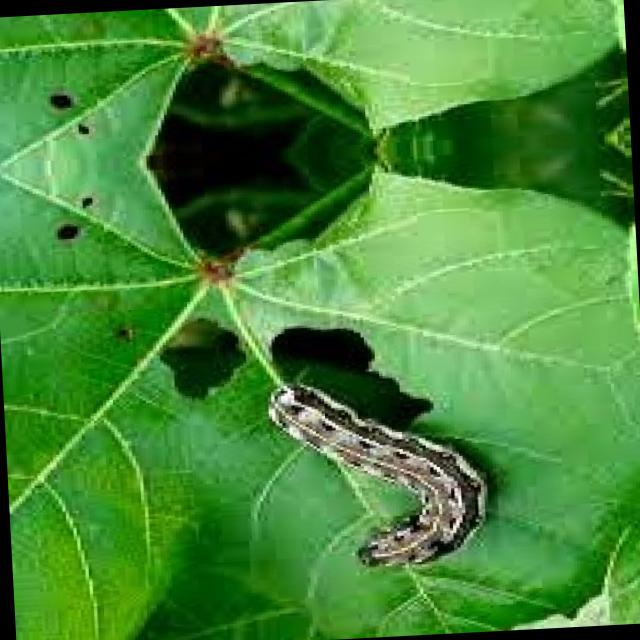Armyworm: (226, 372, 502, 581)
Armyworm_damage: (138, 310, 264, 414), (31, 176, 145, 261), (20, 75, 124, 150)
